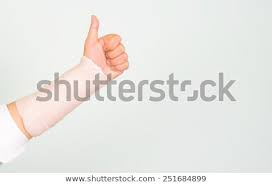thumbs_up: (5, 5, 134, 142)
